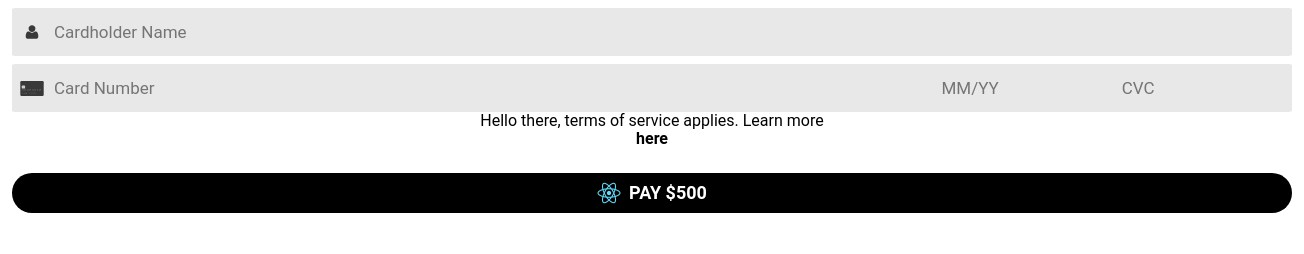
it: <CheckoutContainer /> › renders an error when the card holder name is not full
Type "Abdul" into the field named "card-name" at [668, 32], box [44,10,1292,54]
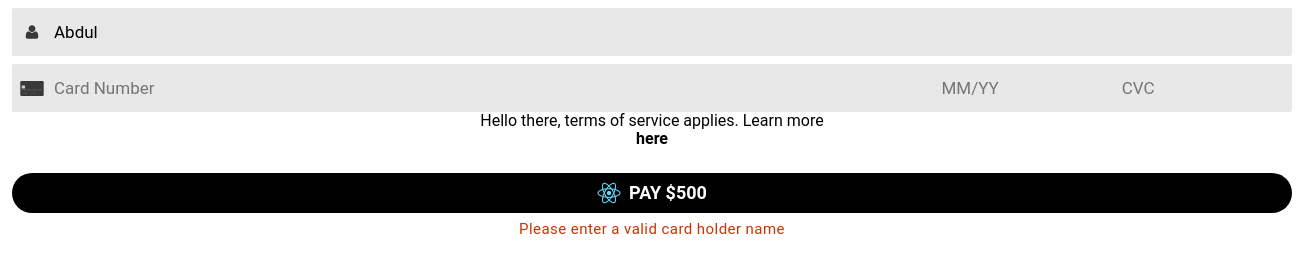
Result: the text with id "helper-container" reads "Please enter a valid card holder name" at [519,220,785,238]
